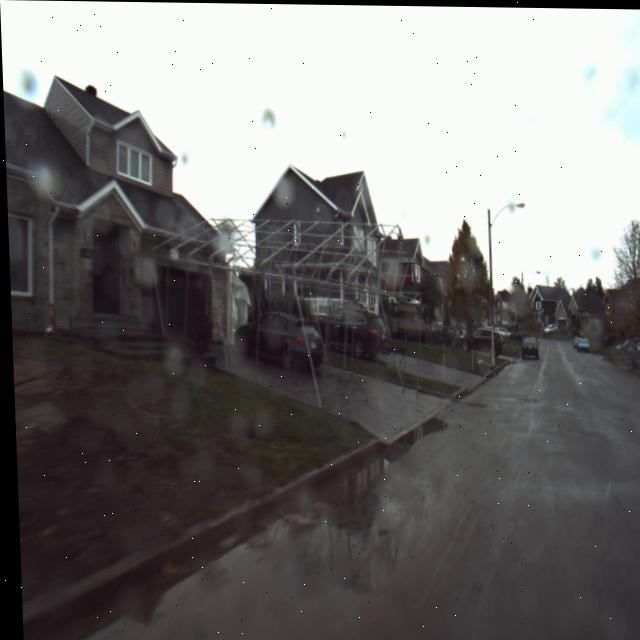car: (518, 327, 539, 361)
